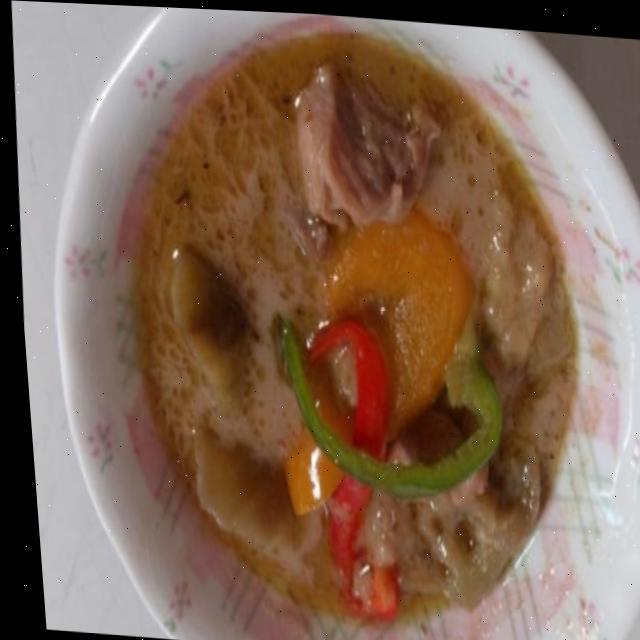汤锅炖物: (320, 290, 426, 483)
熟制海鲜: (404, 315, 578, 578)
米饭主食: (581, 339, 640, 510)
